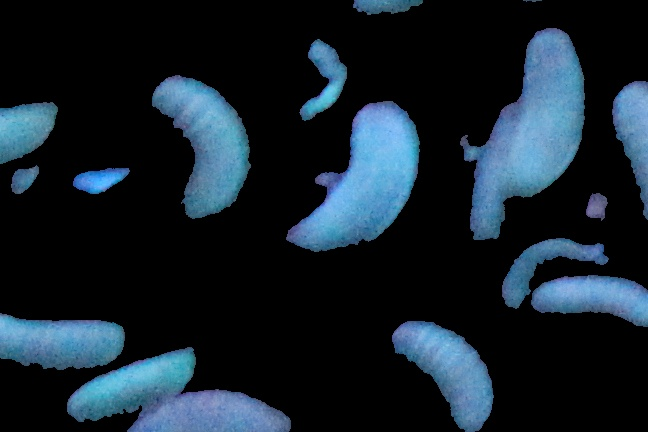larvae: (284, 100, 421, 251), (149, 67, 254, 221), (505, 27, 587, 192), (389, 310, 493, 432), (48, 346, 200, 416), (1, 308, 128, 376), (468, 93, 516, 240), (126, 392, 299, 432), (526, 276, 648, 330), (608, 79, 648, 227), (1, 102, 63, 159)
